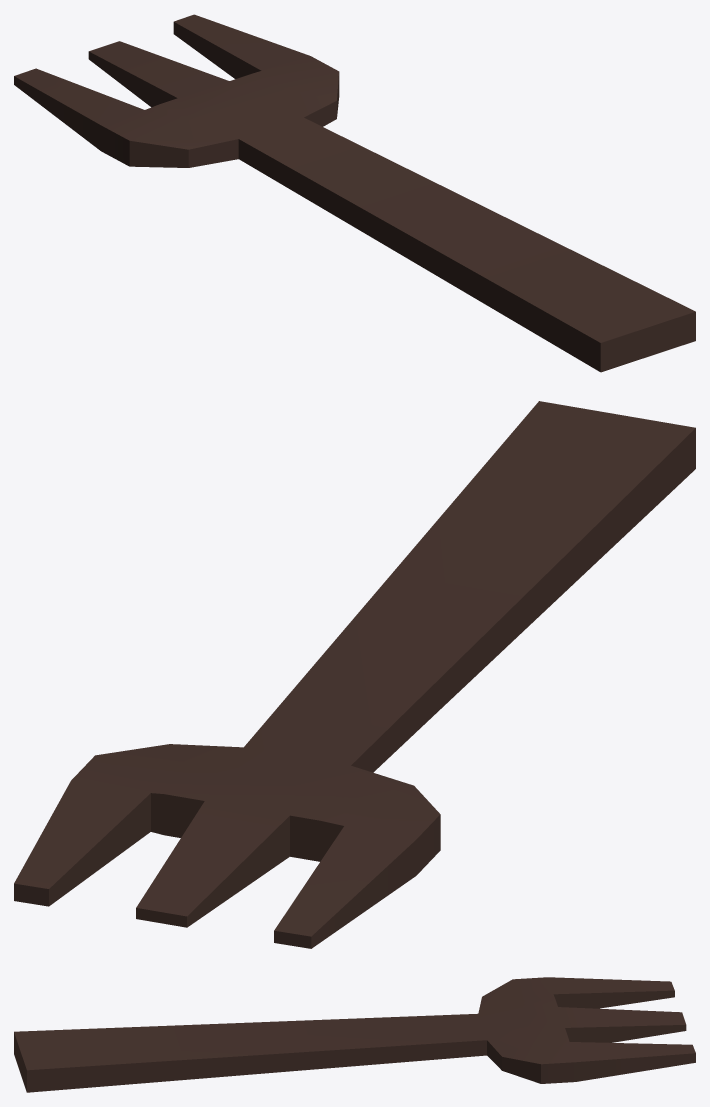
File: Forchetta.fbx
3 views of the same model, one above another, from view 1: azimuth 30°, elevation 25°; view 2: azimuth 150°, elevation 25°; view 3: azimuth 270°, elevation 25° (orthographic). The views are drawn at different scales.
Parts seen in each view (by area): view 1: Fork.002; view 2: Fork.002; view 3: Fork.002.
Part boxes in pixels (box(x1,y1,x2,y2)): Fork.002: box(14, 14, 695, 372); Fork.002: box(14, 401, 695, 948); Fork.002: box(14, 977, 695, 1092).
Size of the model in its own units: 16.11 by 1.74 by 48.04.
